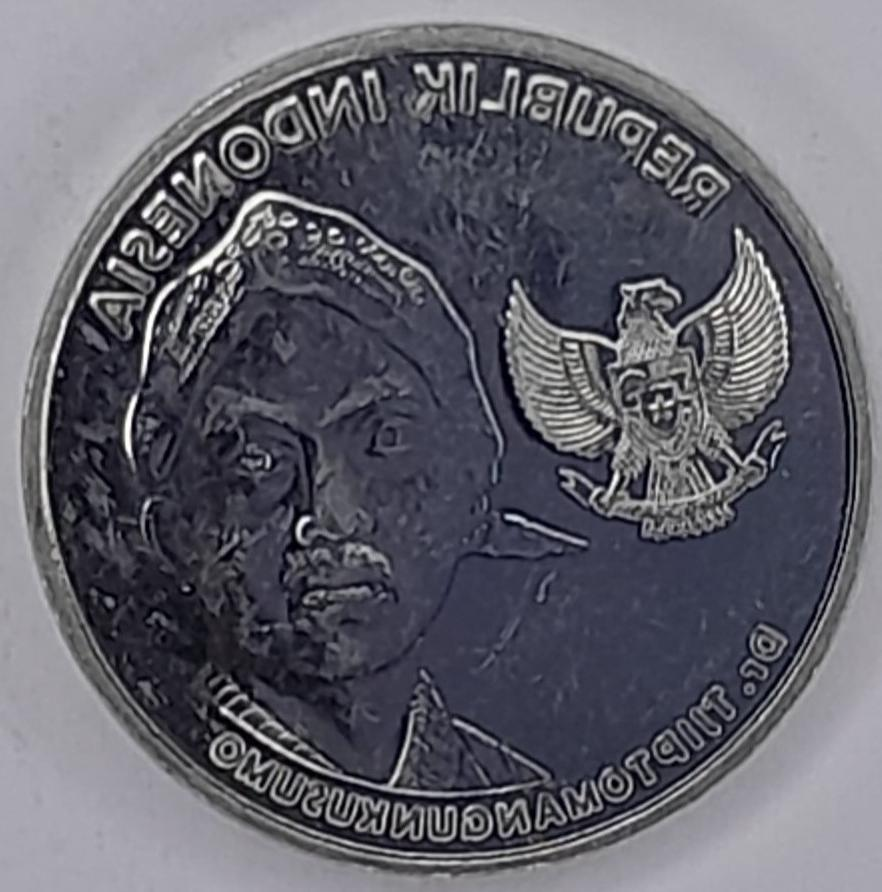coin_200_e2016: (0, 15, 882, 892)
